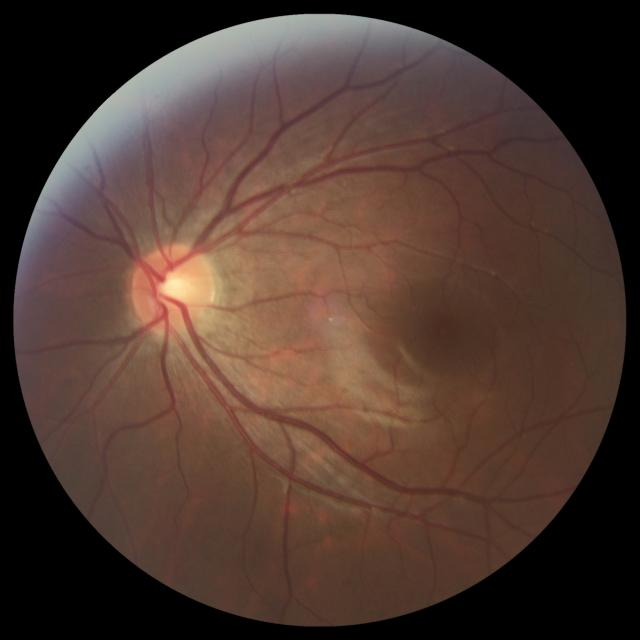OC: (154, 268, 191, 306)
OD: (134, 244, 214, 336)
